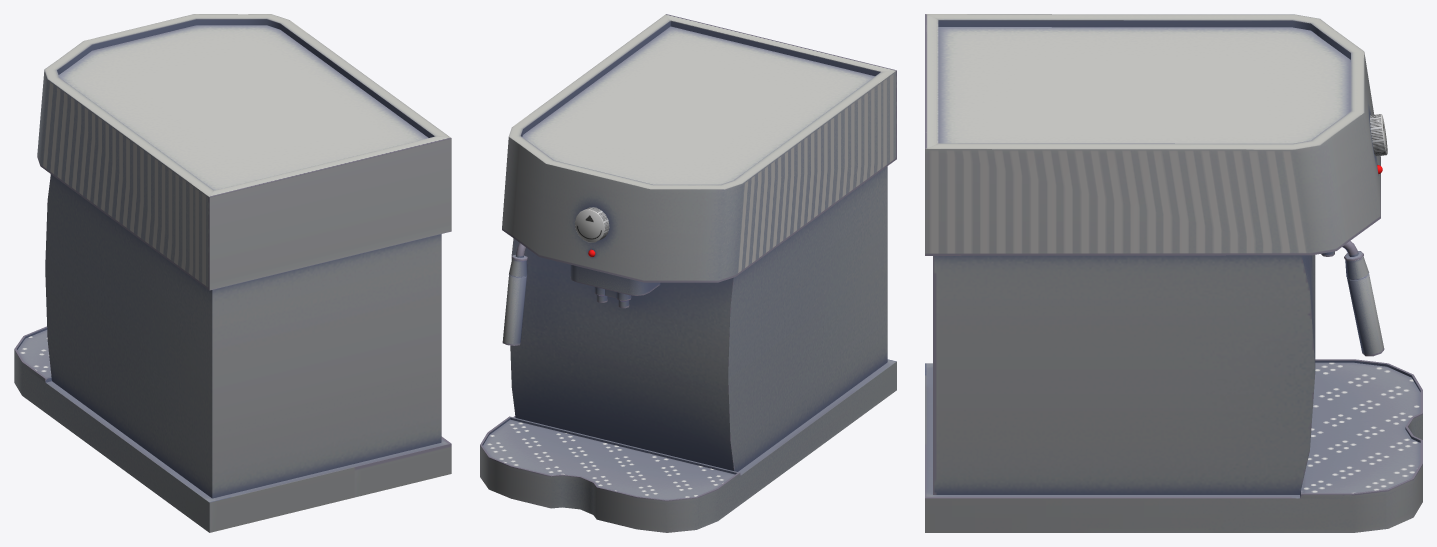
Rendered from M_CoffeMechine.fbx.
The picture shows the model from 3 angles, left to right: view 1: azimuth 30°, elevation 25°; view 2: azimuth 150°, elevation 25°; view 3: azimuth 270°, elevation 25°; orthographic projection. The views are drawn at different scales.
Parts seen in each view (by area): view 1: coffee mechine; view 2: coffee mechine; view 3: coffee mechine.
Part boxes in pixels (left/top/right/bottom): coffee mechine: left=14, top=14, right=451, bottom=532; coffee mechine: left=480, top=14, right=896, bottom=532; coffee mechine: left=925, top=14, right=1422, bottom=532.
Size of the model in its own units: 31.25 by 41.41 by 48.67.
